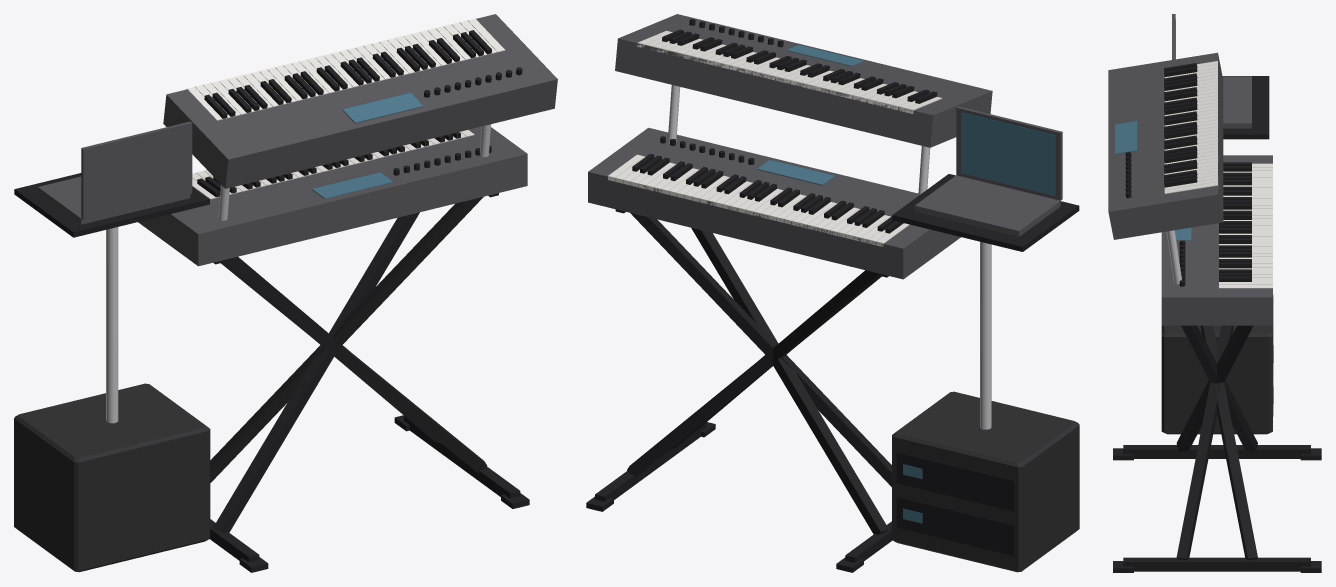
File: synth-61-double.glb
The picture shows the model from 3 angles, left to right: view 1: azimuth 30°, elevation 25°; view 2: azimuth 150°, elevation 25°; view 3: azimuth 270°, elevation 25°; orthographic projection. The views are drawn at different scales.
Parts seen in each view (by area): view 1: panel, cabinet, frame, keys, metal, screen; view 2: panel, frame, cabinet, keys, screen, metal; view 3: frame, panel, cabinet, keys, screen, metal.
Part boxes in pixels (x1,y1,x2,y2): panel: [38, 14, 557, 266]; cabinet: [14, 383, 210, 572]; frame: [14, 30, 529, 572]; keys: [187, 18, 505, 199]; metal: [106, 124, 491, 423]; screen: [312, 93, 423, 199]; panel: [588, 14, 1062, 279]; frame: [586, 19, 1079, 572]; cabinet: [892, 391, 1079, 572]; keys: [608, 30, 942, 246]; screen: [757, 45, 1055, 523]; metal: [667, 85, 991, 429]; frame: [1113, 63, 1321, 572]; panel: [1108, 14, 1272, 325]; cabinet: [1161, 325, 1272, 434]; keys: [1164, 61, 1272, 288]; screen: [1115, 19, 1273, 403]; metal: [1166, 230, 1181, 284].
Bounding box in the file's own units: 1.33 × 1.24 × 0.6132.
